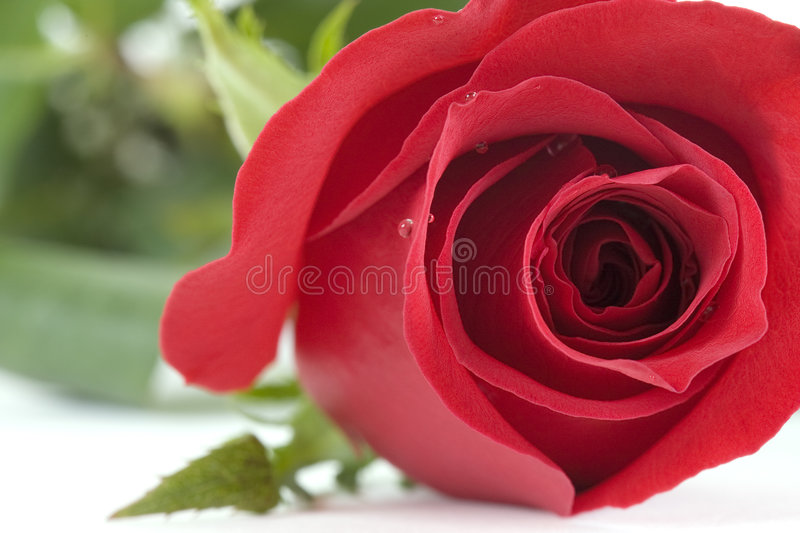RedRose: (167, 17, 800, 505)
